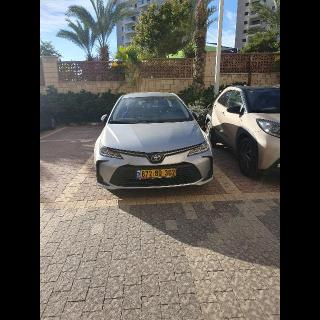LicensePlate: (140, 169, 176, 178)
